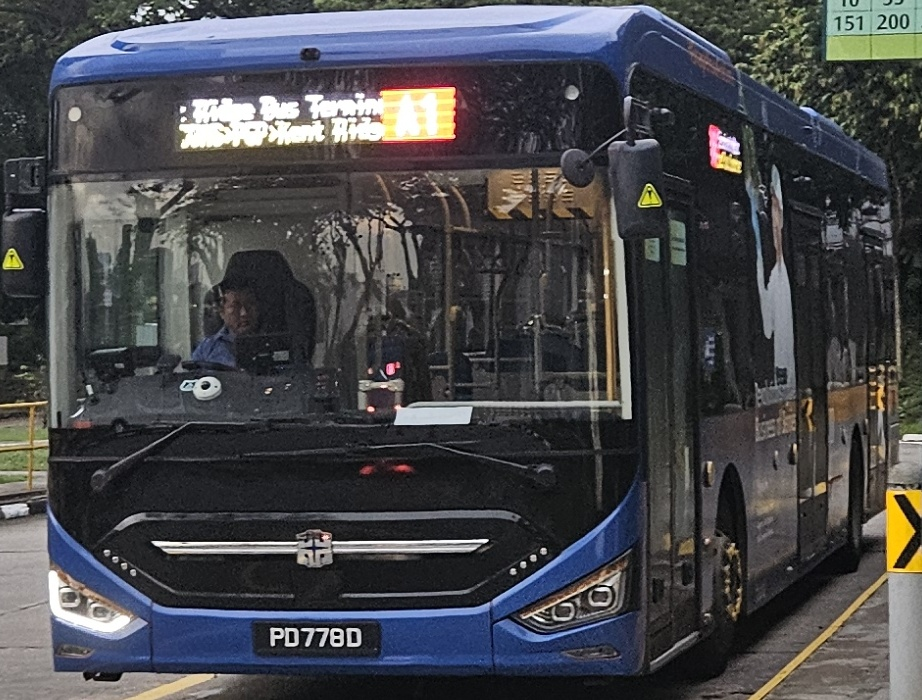bus: (381, 88, 453, 144)
